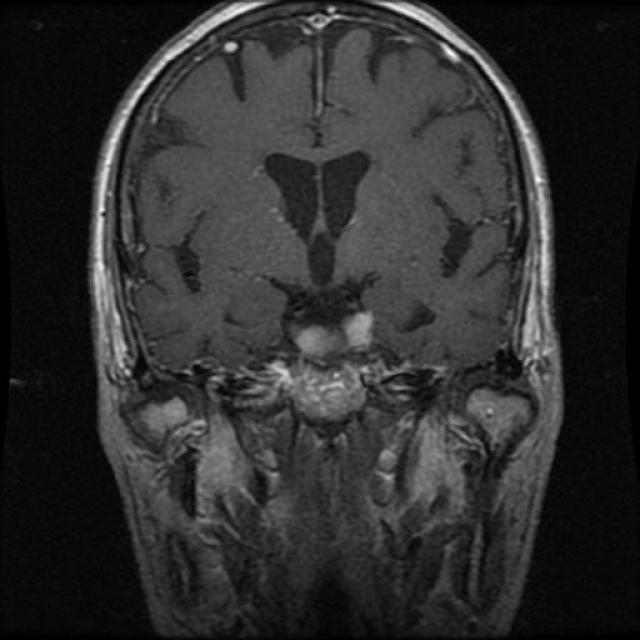pituitary: (270, 290, 396, 384)
